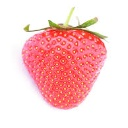strawberry: (19, 14, 109, 108)
